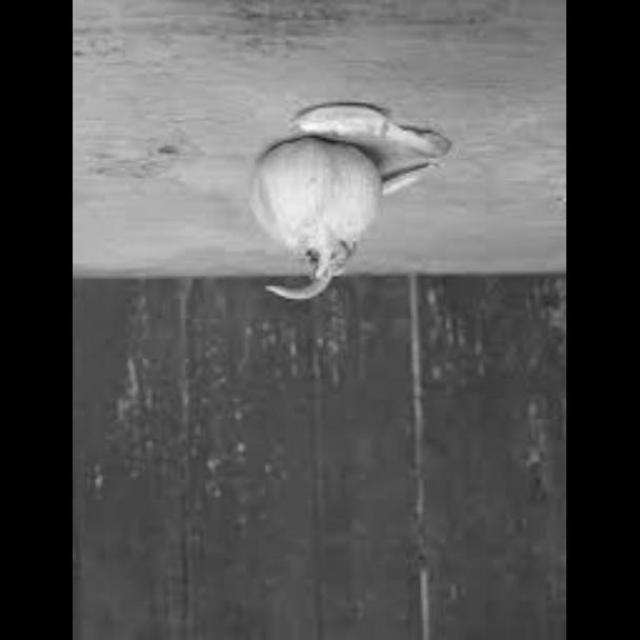garlic: (232, 142, 397, 304), (272, 89, 434, 157)
